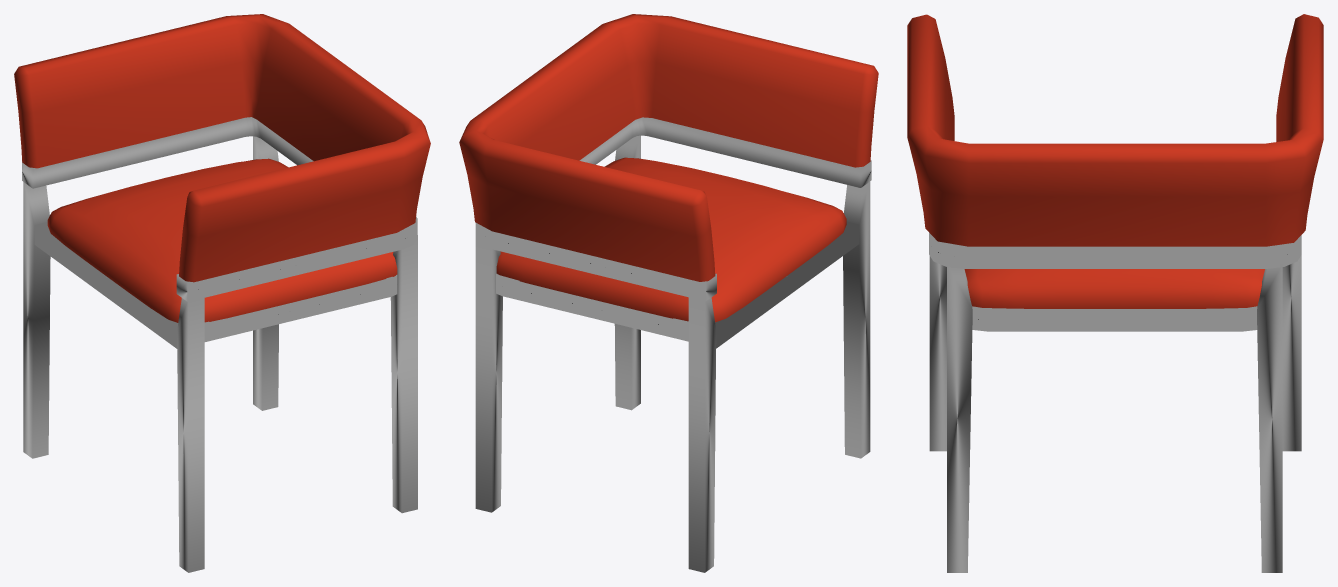
Rendered from chair.obj.
The picture shows the model from 3 angles, left to right: view 1: azimuth 30°, elevation 25°; view 2: azimuth 150°, elevation 25°; view 3: azimuth 270°, elevation 25°; orthographic projection. The views are drawn at different scales.
Parts seen in each view (by area): view 1: Object09, ch00203a05; view 2: Object09, ch00203a05; view 3: Object09, ch00203a05.
Boxes of the visible parts, <box> form: Object09: <box>14,14,430,322</box>; ch00203a05: <box>22,117,417,572</box>; Object09: <box>459,14,878,322</box>; ch00203a05: <box>475,117,871,572</box>; Object09: <box>907,14,1323,308</box>; ch00203a05: <box>929,232,1301,572</box>.
Size of the model in its own units: 20.28 by 28.89 by 25.34.
